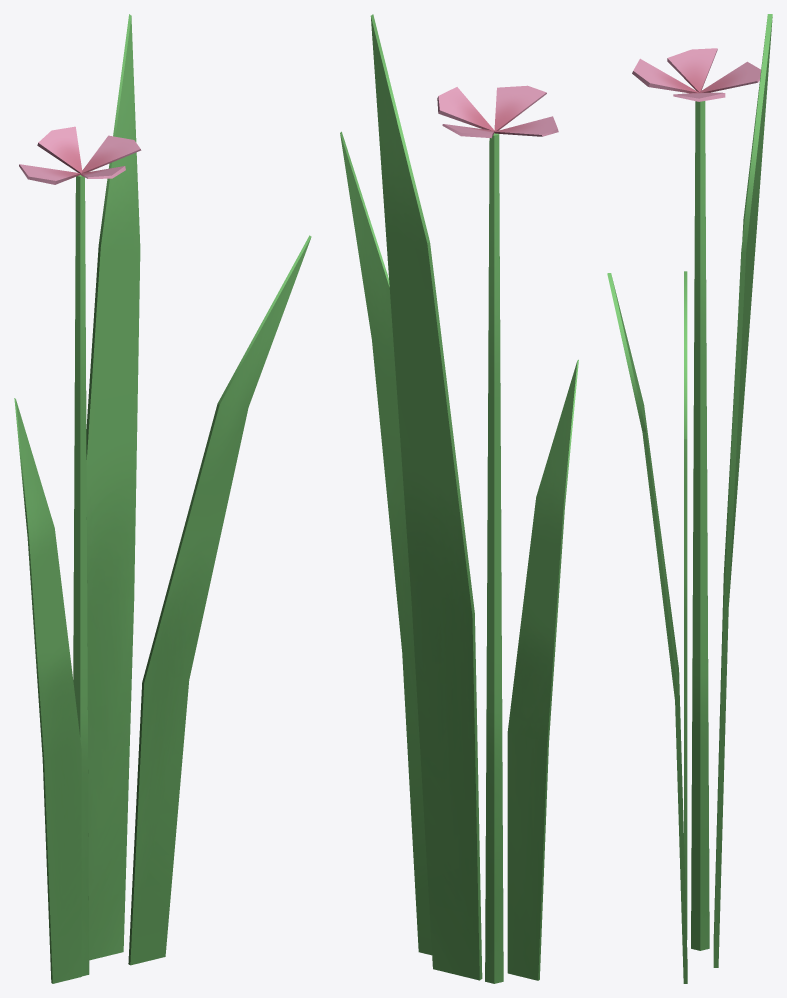
File: GrassPatch.fbx
3 renders of one model, left to right at view 1: azimuth 30°, elevation 25°; view 2: azimuth 150°, elevation 25°; view 3: azimuth 270°, elevation 25°, orthographic. The views are drawn at different scales.
Parts seen in each view (by area): view 1: GrassPatchGeo; view 2: GrassPatchGeo; view 3: GrassPatchGeo.
Boxes of the visible parts, x1=… form: GrassPatchGeo: x1=14, y1=14, x2=311, y2=983; GrassPatchGeo: x1=340, y1=14, x2=578, y2=983; GrassPatchGeo: x1=607, y1=14, x2=772, y2=983.
Bounding box in the file's own units: 4.62 × 15.53 × 2.39.
